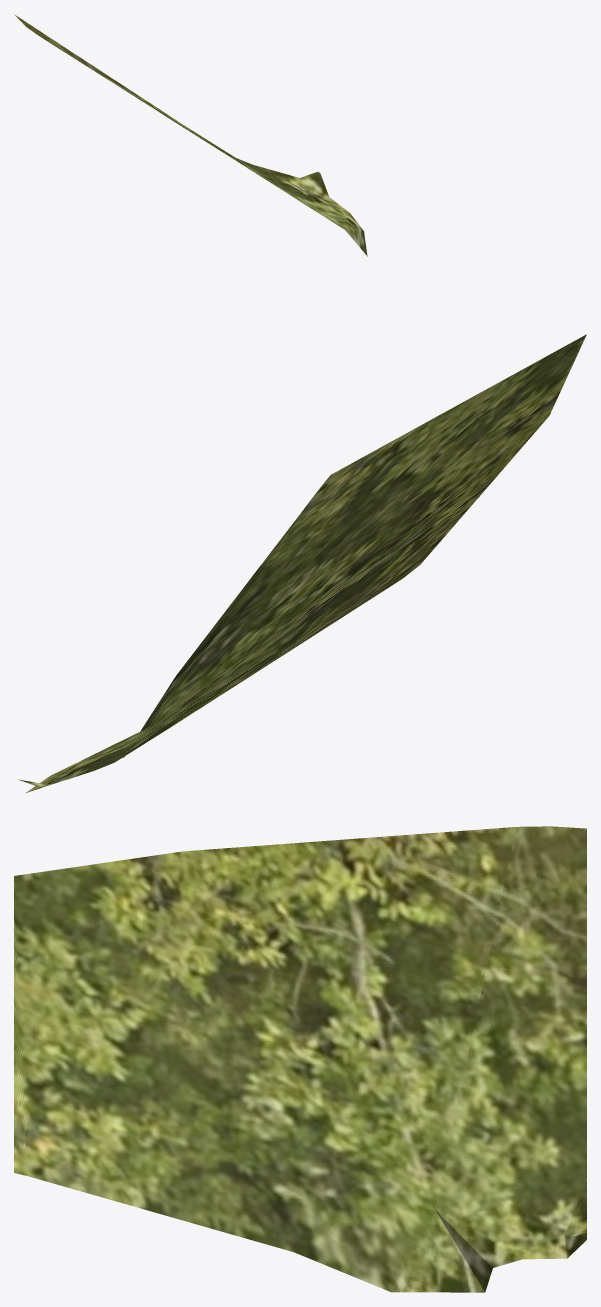
3 views of the same model, one above another, from view 1: azimuth 30°, elevation 25°; view 2: azimuth 150°, elevation 25°; view 3: azimuth 270°, elevation 25° (orthographic). The views are drawn at different scales.
Size of the model in its own units: 1.98 by 1.72 by 2.95.
Materials: 2 (2 with a texture image).
